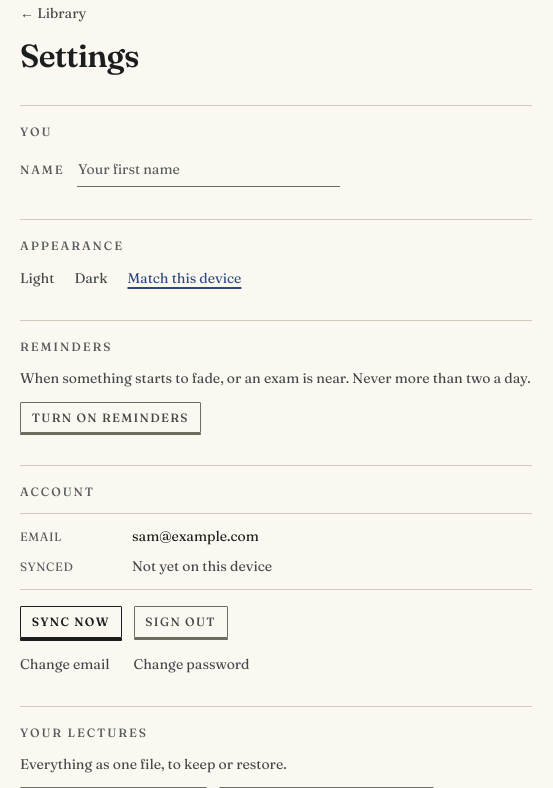
Settings, signed in › changes the email in place, and the toggle closes the form again
The width and height of the screenshot is (553, 788).
Click the button "Change email" at coordinates (65, 664), box [20,654,109,674]
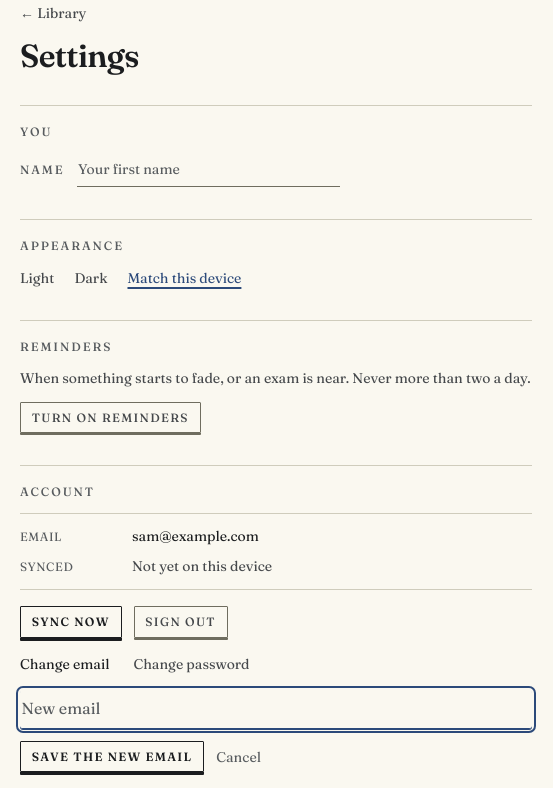
Result: the button "Change email" is expanded at [20,654,109,674]
Type "new@example.com" into the field labelled "New email" at coordinates (276, 709), box [20,690,532,729]
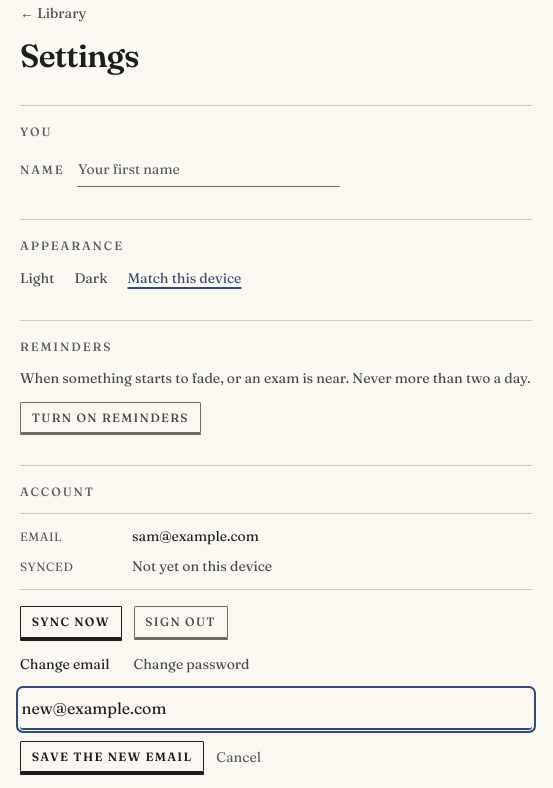
Submit the form labelled "new email", box [20,690,532,772]
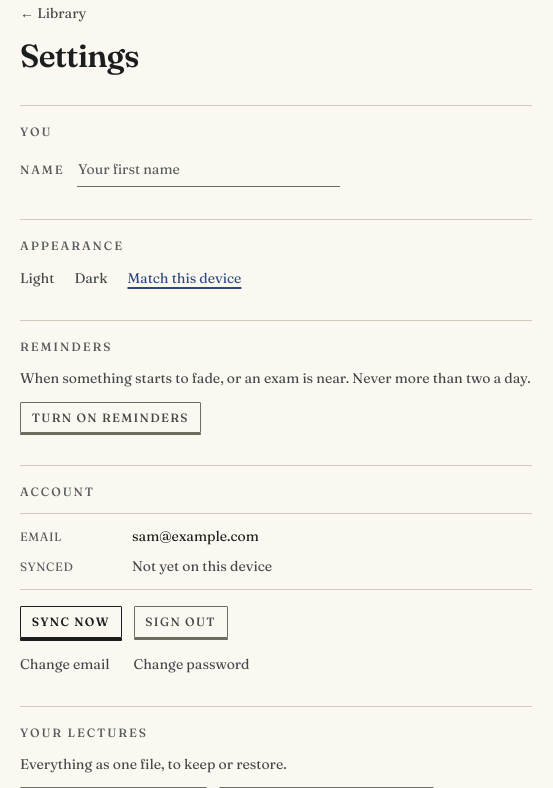
Result: the button labelled "new email" is gone
Click the button "Change email" at coordinates (65, 664), box [20,654,109,674]
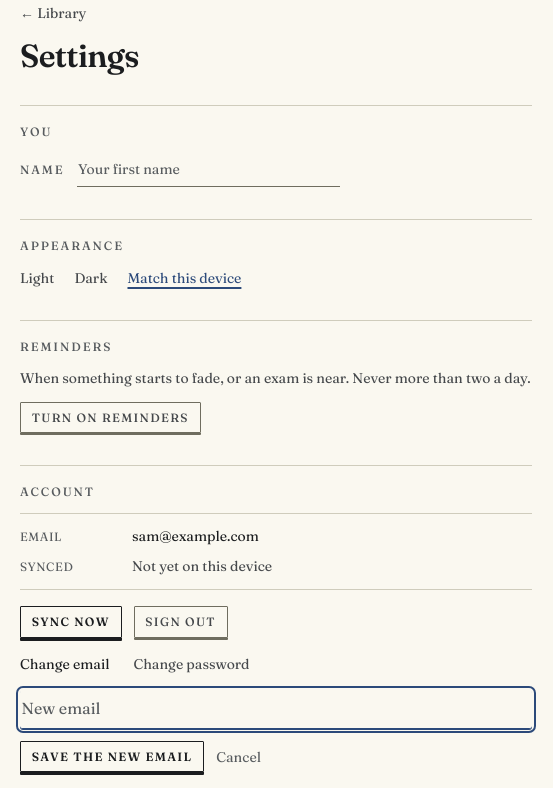
Result: the field labelled "New email" is shown at [20,690,532,729]
Click the button "Change email" at coordinates (65, 664), box [20,654,109,674]
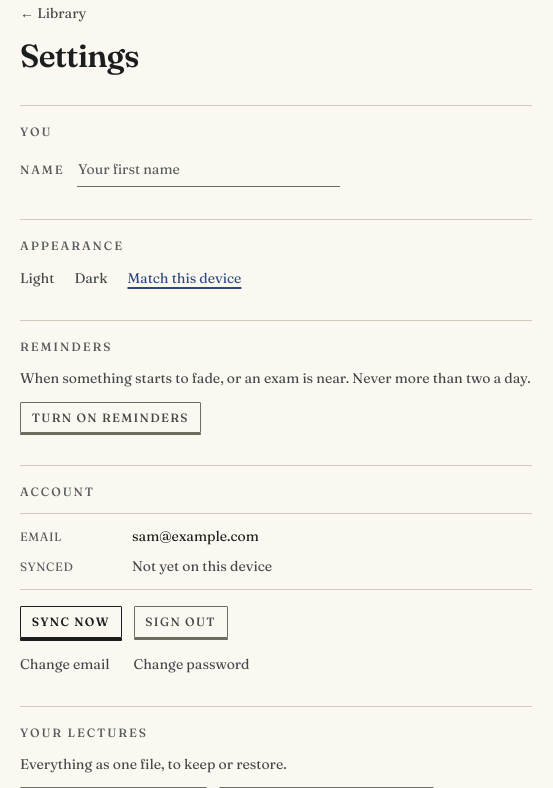
Result: the button labelled "new email" is gone
